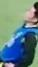blue: (1, 0, 38, 67)
